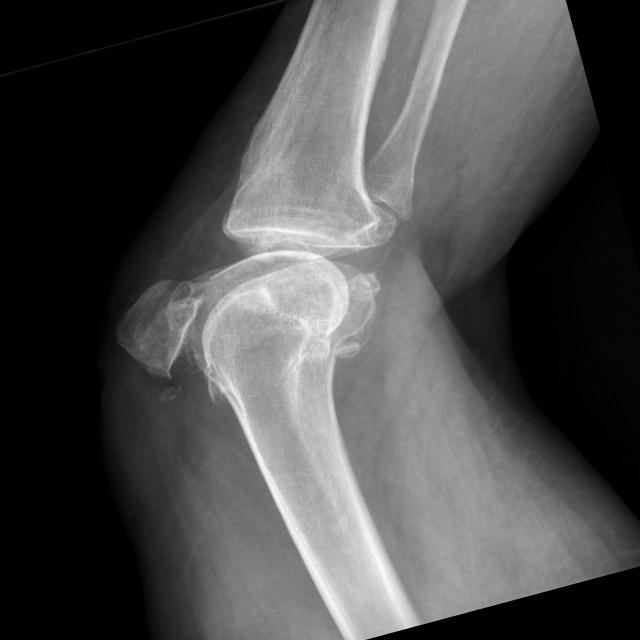Knee: (96, 174, 433, 424)
